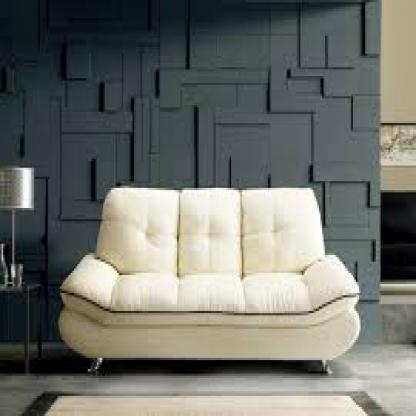sofa: (57, 184, 359, 374)
